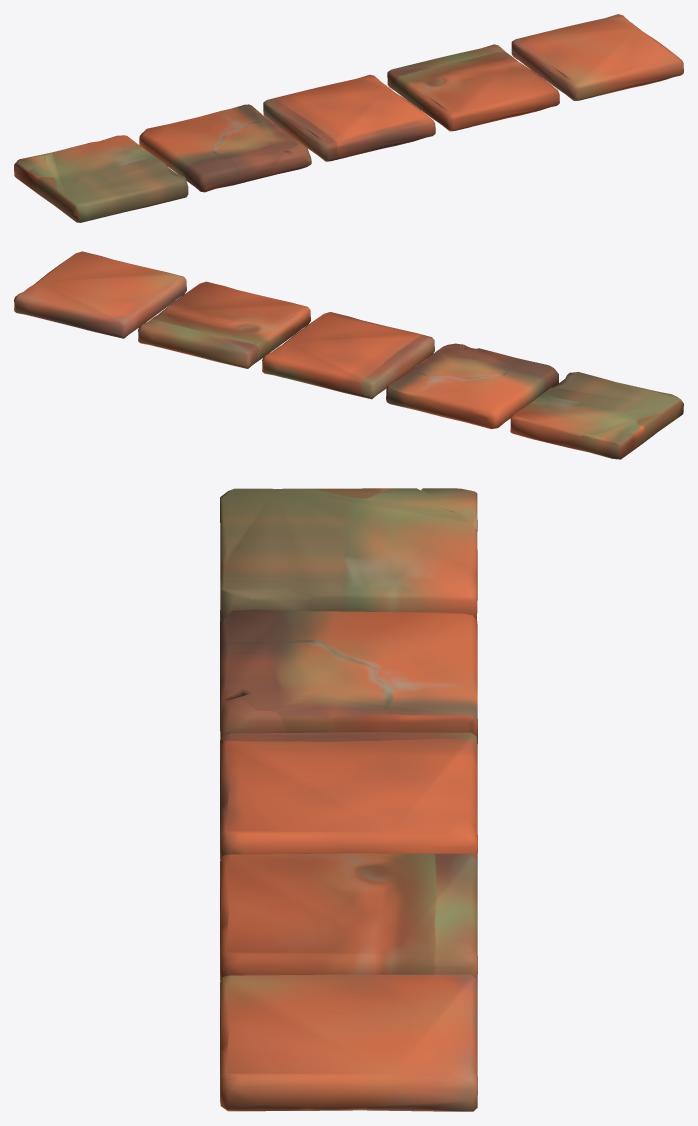
File: bricks.fbx
3 views of the same model, one above another, from view 1: azimuth 30°, elevation 25°; view 2: azimuth 150°, elevation 25°; view 3: azimuth 270°, elevation 25° (orthographic). The views are drawn at different scales.
Visible parts, largest first — view 1: brick_1_lp, brick_4_lp, brick_5_lp, brick_2_lp, brick_3_lp; view 2: brick_1_lp, brick_4_lp, brick_5_lp, brick_3_lp, brick_2_lp; view 3: brick_5_lp, brick_1_lp, brick_4_lp, brick_3_lp, brick_2_lp.
Boxes of the visible parts, x1,y1,x2,y2 form: brick_1_lp: [14, 135, 188, 222]; brick_4_lp: [387, 44, 559, 131]; brick_5_lp: [511, 14, 683, 100]; brick_2_lp: [139, 104, 311, 192]; brick_3_lp: [263, 74, 435, 161]; brick_1_lp: [510, 372, 683, 459]; brick_4_lp: [138, 281, 310, 368]; brick_5_lp: [14, 251, 186, 338]; brick_3_lp: [262, 312, 434, 399]; brick_2_lp: [386, 343, 558, 429]; brick_5_lp: [220, 974, 477, 1111]; brick_1_lp: [220, 488, 477, 621]; brick_4_lp: [220, 853, 477, 980]; brick_3_lp: [220, 732, 477, 859]; brick_2_lp: [220, 609, 477, 743].
Bounding box in the file's own units: 9.8 × 0.2706 × 1.8.
